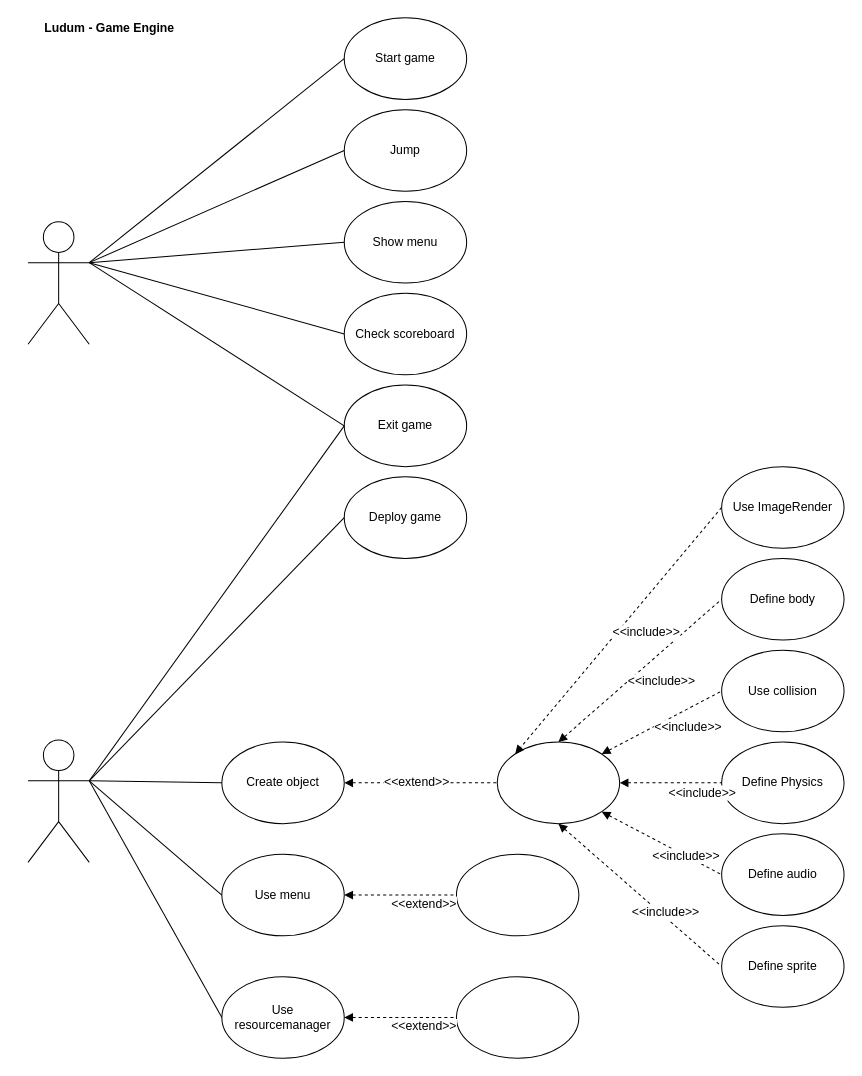
This 862x1076 diagram has some shape labels left out. The box of each missing label's shape, as (x1, y1, x2, y2) in pixels:
Define background: (455, 976, 579, 1058)
Developer: (27, 739, 89, 862)
Player: (27, 221, 89, 344)
Use entity: (496, 741, 620, 824)
Use scoreboard: (455, 853, 579, 936)
